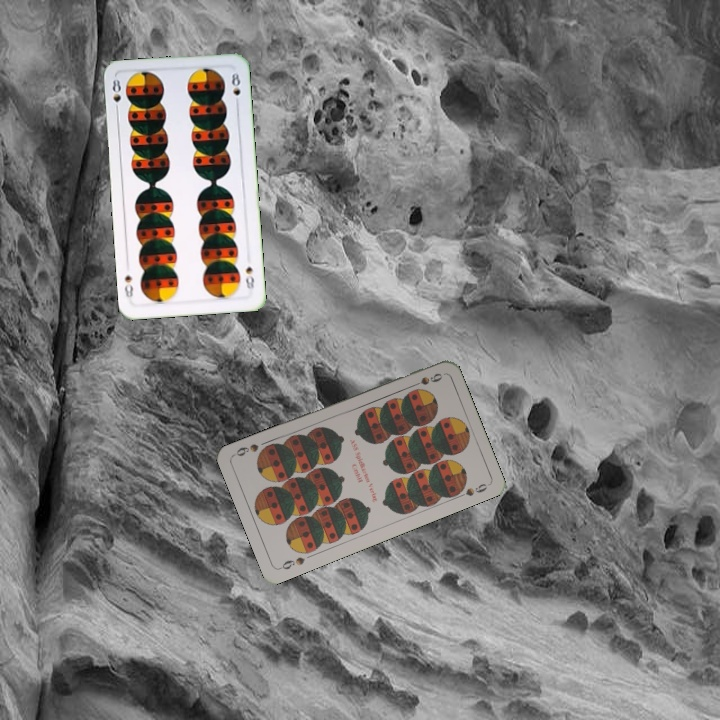S8: (108, 75, 123, 116), (242, 262, 257, 292)
S9: (406, 369, 445, 390), (276, 553, 307, 572)
